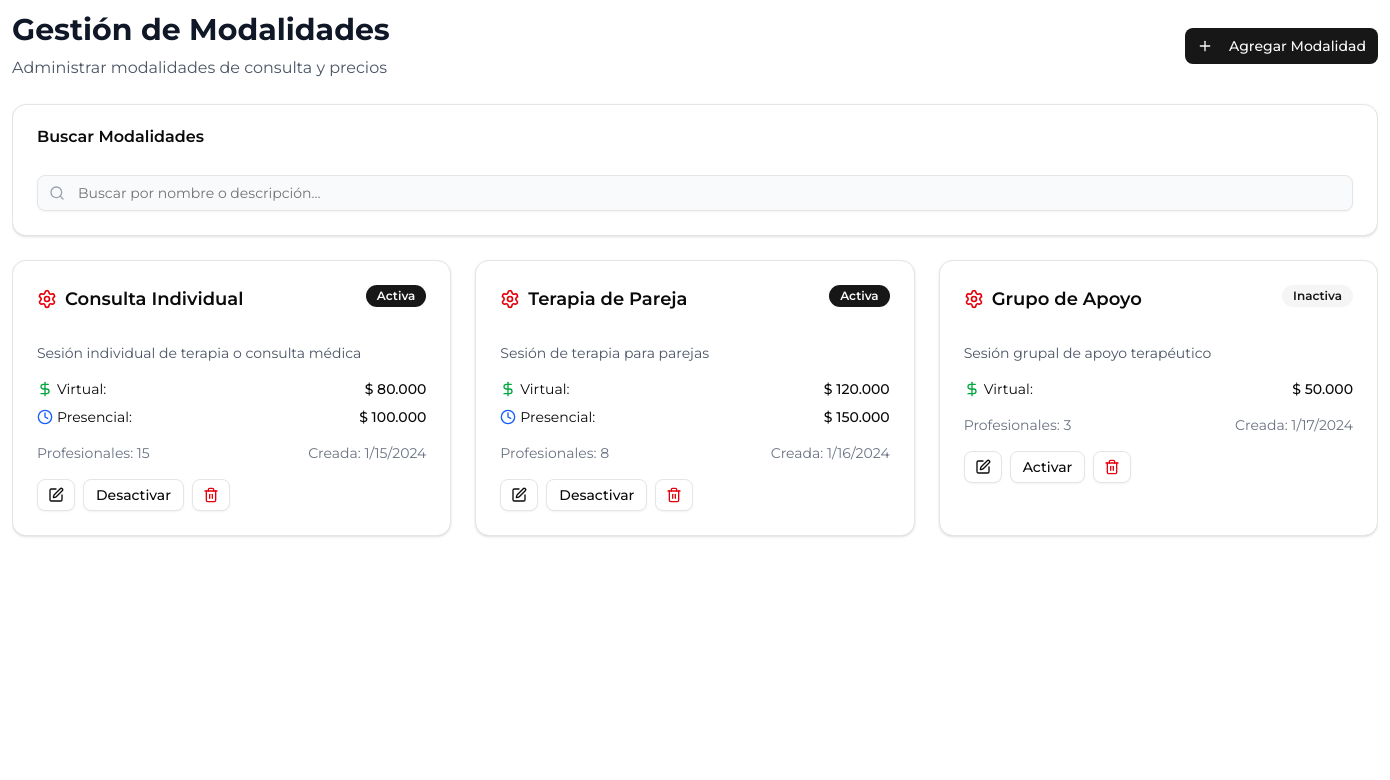
Test: AdminModalities › should filter modalities by search term
This screenshot has width=1390, height=780.
expect the text "Consulta Individual" is shown: met, box [65,285,243,313]
Type "Individual" into the field with placeholder "Buscar por nombre o descripción..." at point(695, 193), box [37,175,1353,211]
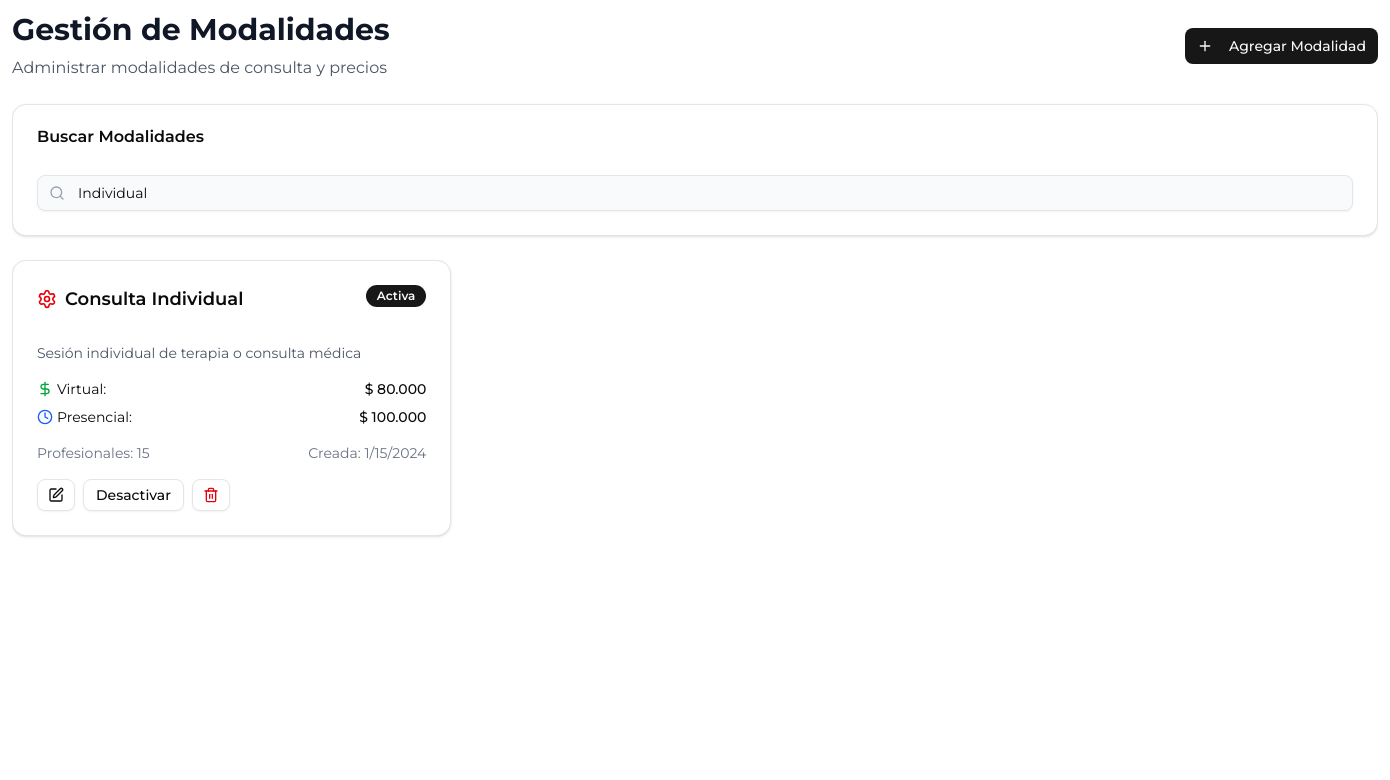
expect the text "Consulta Individual" is shown: met, box [65,285,243,313]
expect the text "Terapia de Pareja" is gone: met
